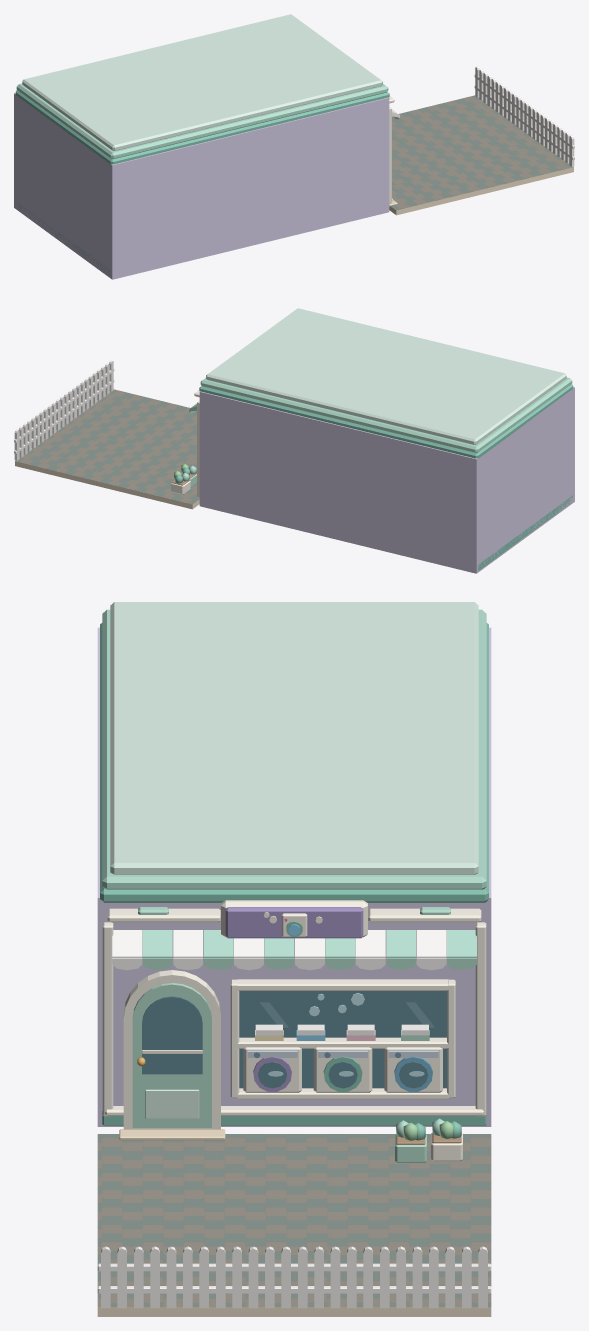
File: town_side_a.glb
3 views of the same model, one above another, from view 1: azimuth 30°, elevation 25°; view 2: azimuth 150°, elevation 25°; view 3: azimuth 270°, elevation 25° (orthographic). The views are drawn at different scales.
Parts seen in each view (by area): view 1: Building, Roof, YardPaving, WhiteFence; view 2: Building, Roof, YardPaving, WhiteFence, YardDetails; view 3: Roof, YardPaving, Building, Display, WhiteFence, DoorAndTrim, Awning, StoreSign, YardDetails.
Boxes of the visible parts, <box> form: Building: <box>14,93,394,279</box>; Roof: <box>15,14,389,164</box>; YardPaving: <box>389,95,573,215</box>; WhiteFence: <box>474,66,574,166</box>; Building: <box>194,387,574,573</box>; Roof: <box>199,308,573,458</box>; YardPaving: <box>15,389,199,509</box>; WhiteFence: <box>14,360,114,460</box>; YardDetails: <box>171,464,196,494</box>; Roof: <box>100,602,488,914</box>; YardPaving: <box>97,1134,491,1316</box>; Building: <box>97,627,491,1126</box>; Display: <box>230,979,455,1099</box>; WhiteFence: <box>97,1246,491,1308</box>; DoorAndTrim: <box>119,970,225,1140</box>; Awning: <box>112,930,476,970</box>; StoreSign: <box>221,900,367,938</box>; YardDetails: <box>395,1118,462,1162</box>.
Size of the model in its own units: 13.03 by 3.63 by 4.8.
22 materials, 22 textured.
